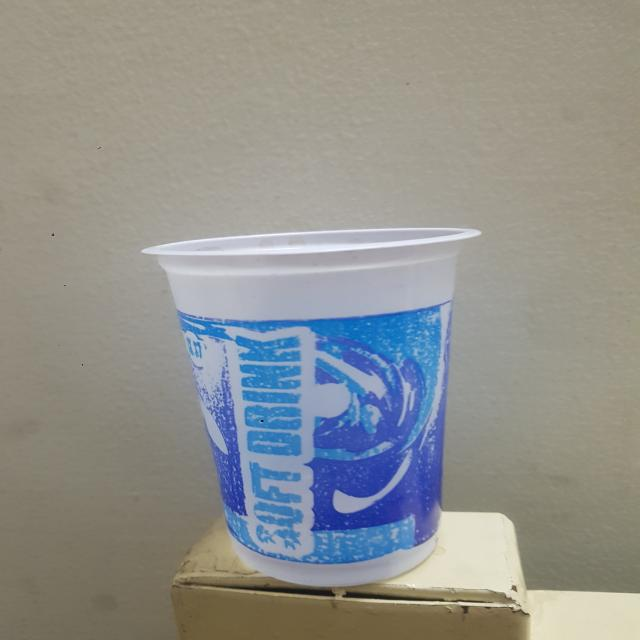general: (140, 226, 482, 588)
